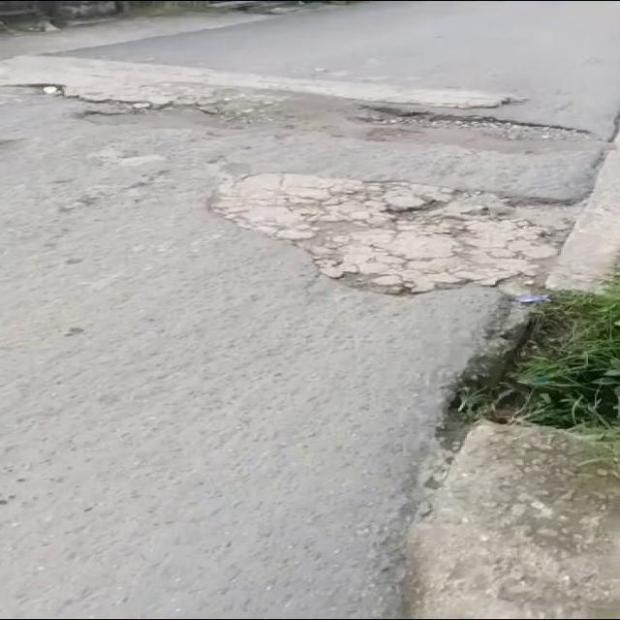lubang: (0, 56, 604, 153), (211, 172, 571, 294)
